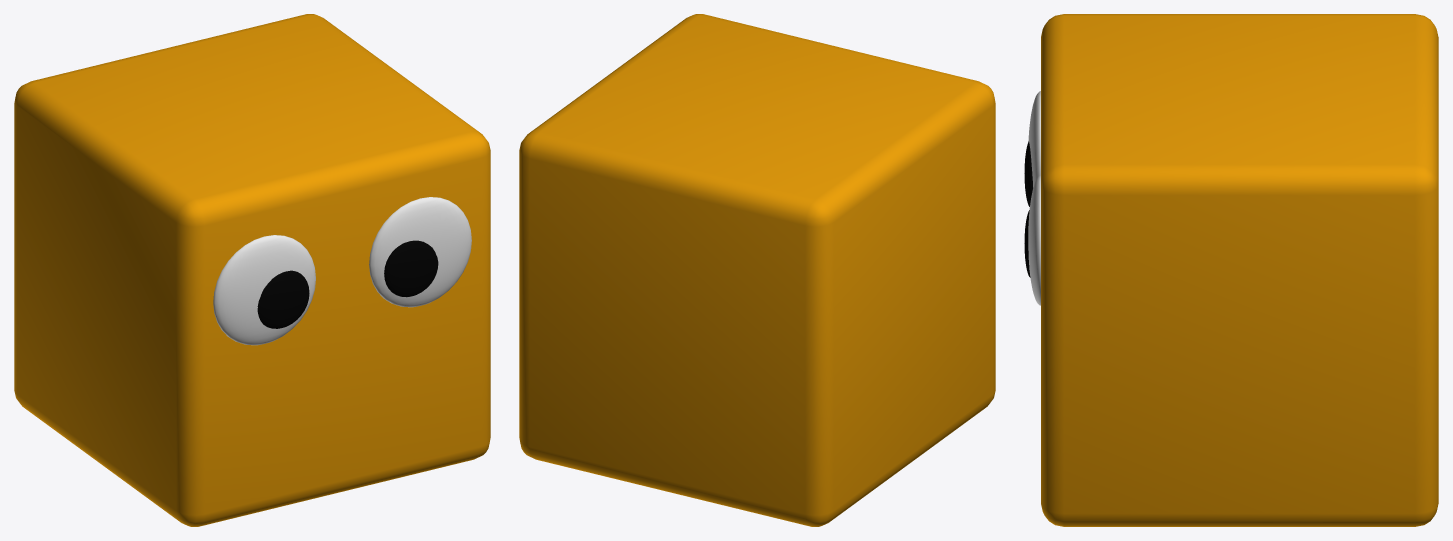
Rendered from mainMenuModel.glb.
The picture shows the model from 3 angles, left to right: view 1: azimuth 30°, elevation 25°; view 2: azimuth 150°, elevation 25°; view 3: azimuth 270°, elevation 25°; orthographic projection. The views are drawn at different scales.
Parts seen in each view (by area): view 1: Cube; view 2: Cube; view 3: Cube.
Boxes of the visible parts, <box> form: Cube: <box>14,14,490,526</box>; Cube: <box>519,14,995,526</box>; Cube: <box>1024,14,1438,526</box>.
Bounding box in the file's own units: 2 × 2 × 2.08.
